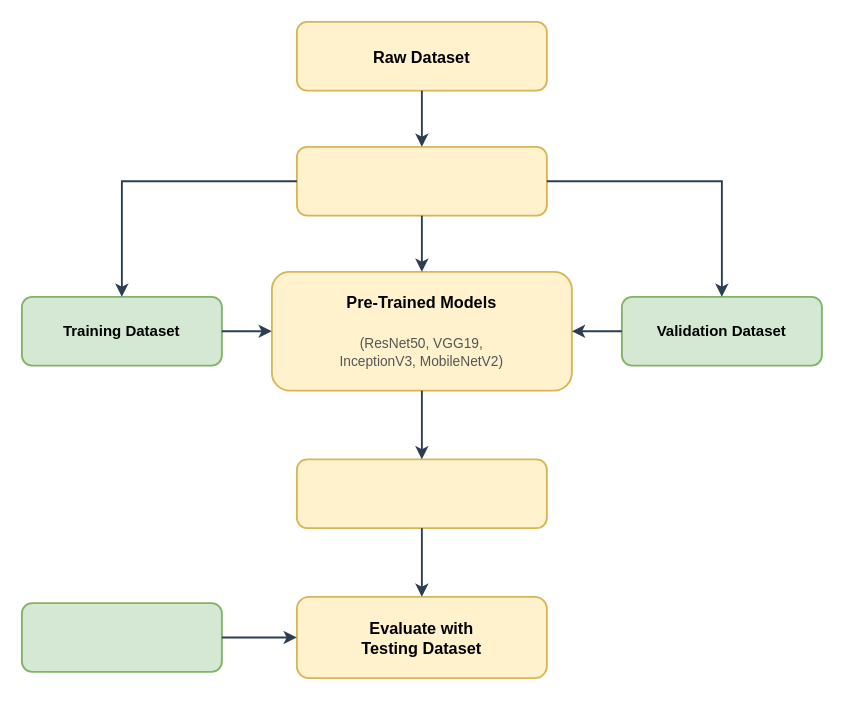
The diagram is 845 pixels wide and 701 high, and some of its shapes have lost their labels. Here are the shapes that lost their labels. From the top down, the box of each, then its label:
(295, 145, 547, 216): Pre-Processing
(295, 458, 547, 528): Categorize the Disease
(20, 602, 222, 672): Test Dataset
